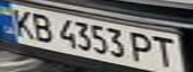3: (106, 26, 130, 60), (72, 19, 93, 53)
4: (51, 17, 75, 50)
5: (87, 22, 109, 56)
B: (27, 11, 57, 43)
K: (3, 7, 39, 39)
P: (127, 30, 160, 64)
T: (148, 34, 181, 70)
